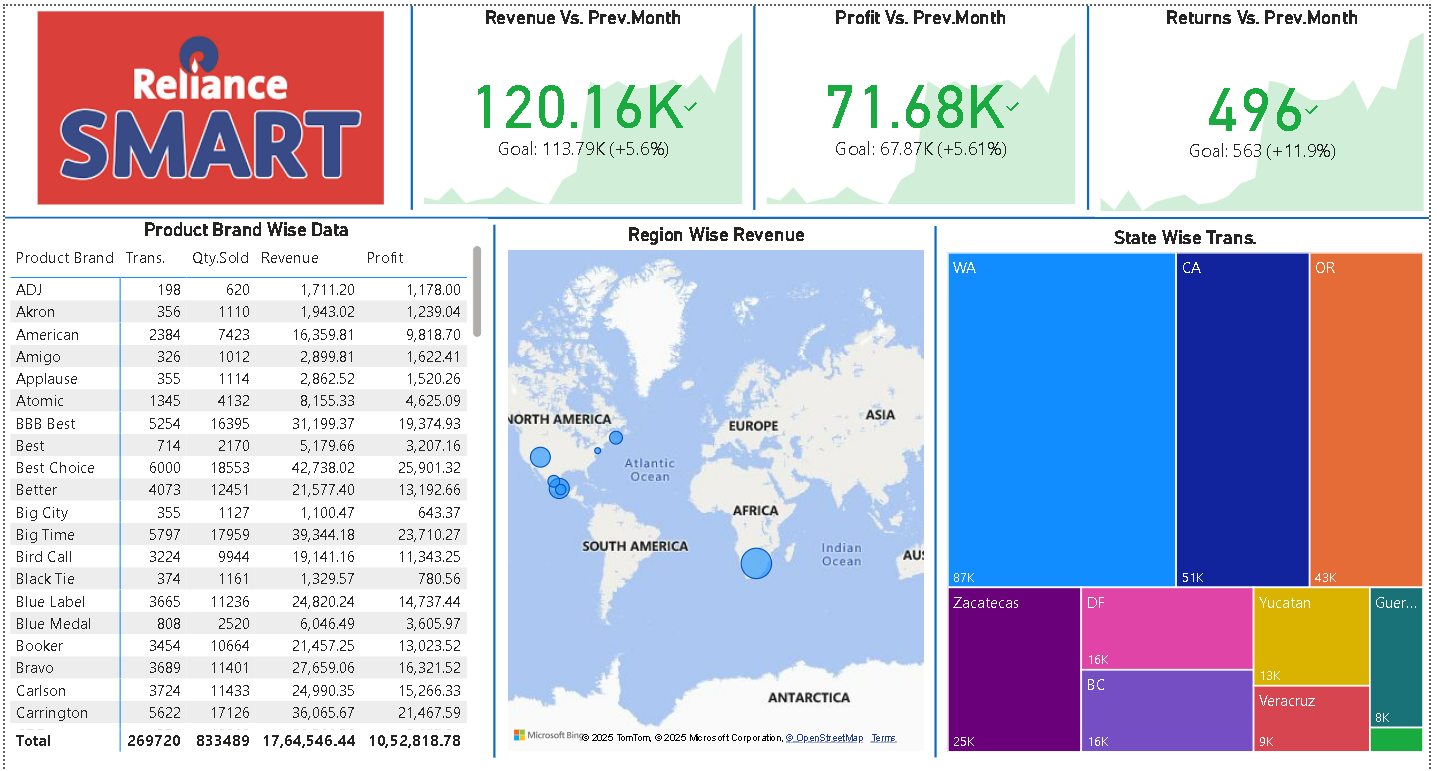

The page's visual inventory and layout, read from the dashboard file:
{"tool":"powerbi","page":{"name":"Primary Report","canvas":[1280,720],"ordinal":0},"visuals":[{"type":"image","box":[9.8,0,349.7,183.4],"z":0},{"type":"shape","box":[0,183.9,1280.3,12.3],"z":1000},{"type":"pivotTable","title":"Product Brand Wise Data","fields":{"Rows":["D_Products.product_brand"],"Values":["Measures (2).M_Total_Transaction","Measures (2).M_Quantity_Sold","Measures (2).M_Total_Revenue","Measures (2).M_Total_Profit"]},"box":[0,190.7,433.6,484.4],"z":2000},{"type":"shape","box":[433.6,196.2,12.3,478.9],"z":3000},{"type":"map","title":"Region Wise Revenue","fields":{"Category":["D_Regions.sales_region"],"Size":["Measures (2).M_Total_Revenue"]},"box":[446.7,195.5,384.2,479.3],"z":4000},{"type":"shape","box":[830.9,198.2,12.2,477.9],"z":5000},{"type":"treemap","title":"State Wise Trans.","fields":{"Group":["D_Stores.store_state"],"Values":["Measures (2).M_Total_Transaction"]},"box":[843.1,198.2,437.2,477.9],"z":6000},{"type":"shape","box":[359.5,0,12.2,183.4],"z":7000},{"type":"kpi","title":"Revenue Vs. Prev.Month","fields":{"Indicator":["Measures (2).M_Total_Revenue"],"TrendLine":["D_Calendar.Start of Month"],"Goal":["Measures (2).M_Previous_month_Revenue"]},"box":[371.7,0,295.9,183.4],"z":8000},{"type":"shape","box":[667.7,0,12.2,183.4],"z":9000},{"type":"kpi","title":"Profit Vs. Prev.Month","fields":{"TrendLine":["D_Calendar.Start of Month"],"Goal":["Measures (2).M_Previous_Month_Profit"],"Indicator":["Measures (2).M_Total_Profit"]},"box":[679.9,0,287.4,183.4],"z":10000},{"type":"shape","box":[967.3,0,12.2,183.4],"z":11000},{"type":"kpi","title":"Returns Vs. Prev.Month","fields":{"TrendLine":["D_Calendar.Start of Month"],"Indicator":["Measures (2).M_Total_Returns"],"Goal":["Measures (2).M_Previous_Month_Returns"]},"box":[979.5,0,300.8,189.5],"z":12000}]}

Visuals, with their boxes in screenshot pixels (x1, y1, x2, y2):
image: bbox=[29, 0, 412, 201]
shape: bbox=[19, 201, 1420, 215]
"Product Brand Wise Data" pivotTable: bbox=[19, 209, 493, 739]
shape: bbox=[493, 215, 507, 739]
"Region Wise Revenue" map: bbox=[508, 214, 928, 739]
shape: bbox=[928, 217, 942, 740]
"State Wise Trans." treemap: bbox=[942, 217, 1420, 740]
shape: bbox=[412, 0, 426, 201]
"Revenue Vs. Prev.Month" kpi: bbox=[426, 0, 750, 201]
shape: bbox=[750, 0, 763, 201]
"Profit Vs. Prev.Month" kpi: bbox=[763, 0, 1078, 201]
shape: bbox=[1078, 0, 1091, 201]
"Returns Vs. Prev.Month" kpi: bbox=[1091, 0, 1420, 207]
